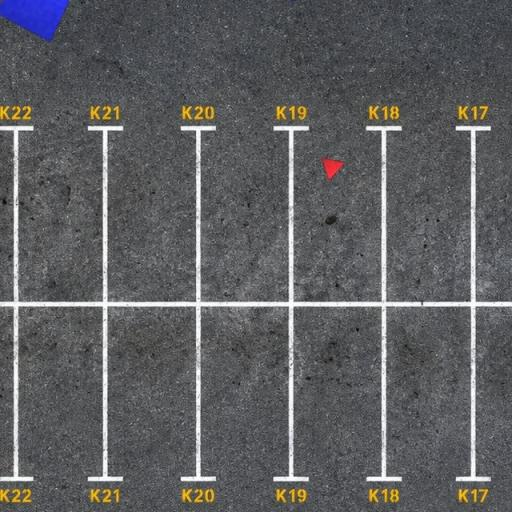BLUE_SQUARE: (0, 0, 76, 42)
